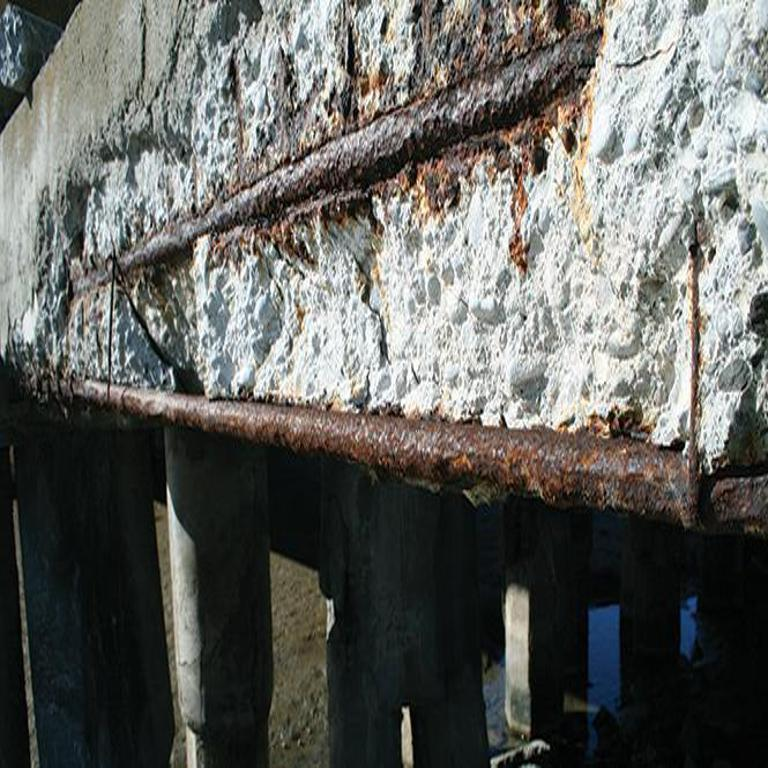damage: (0, 0, 766, 540)
